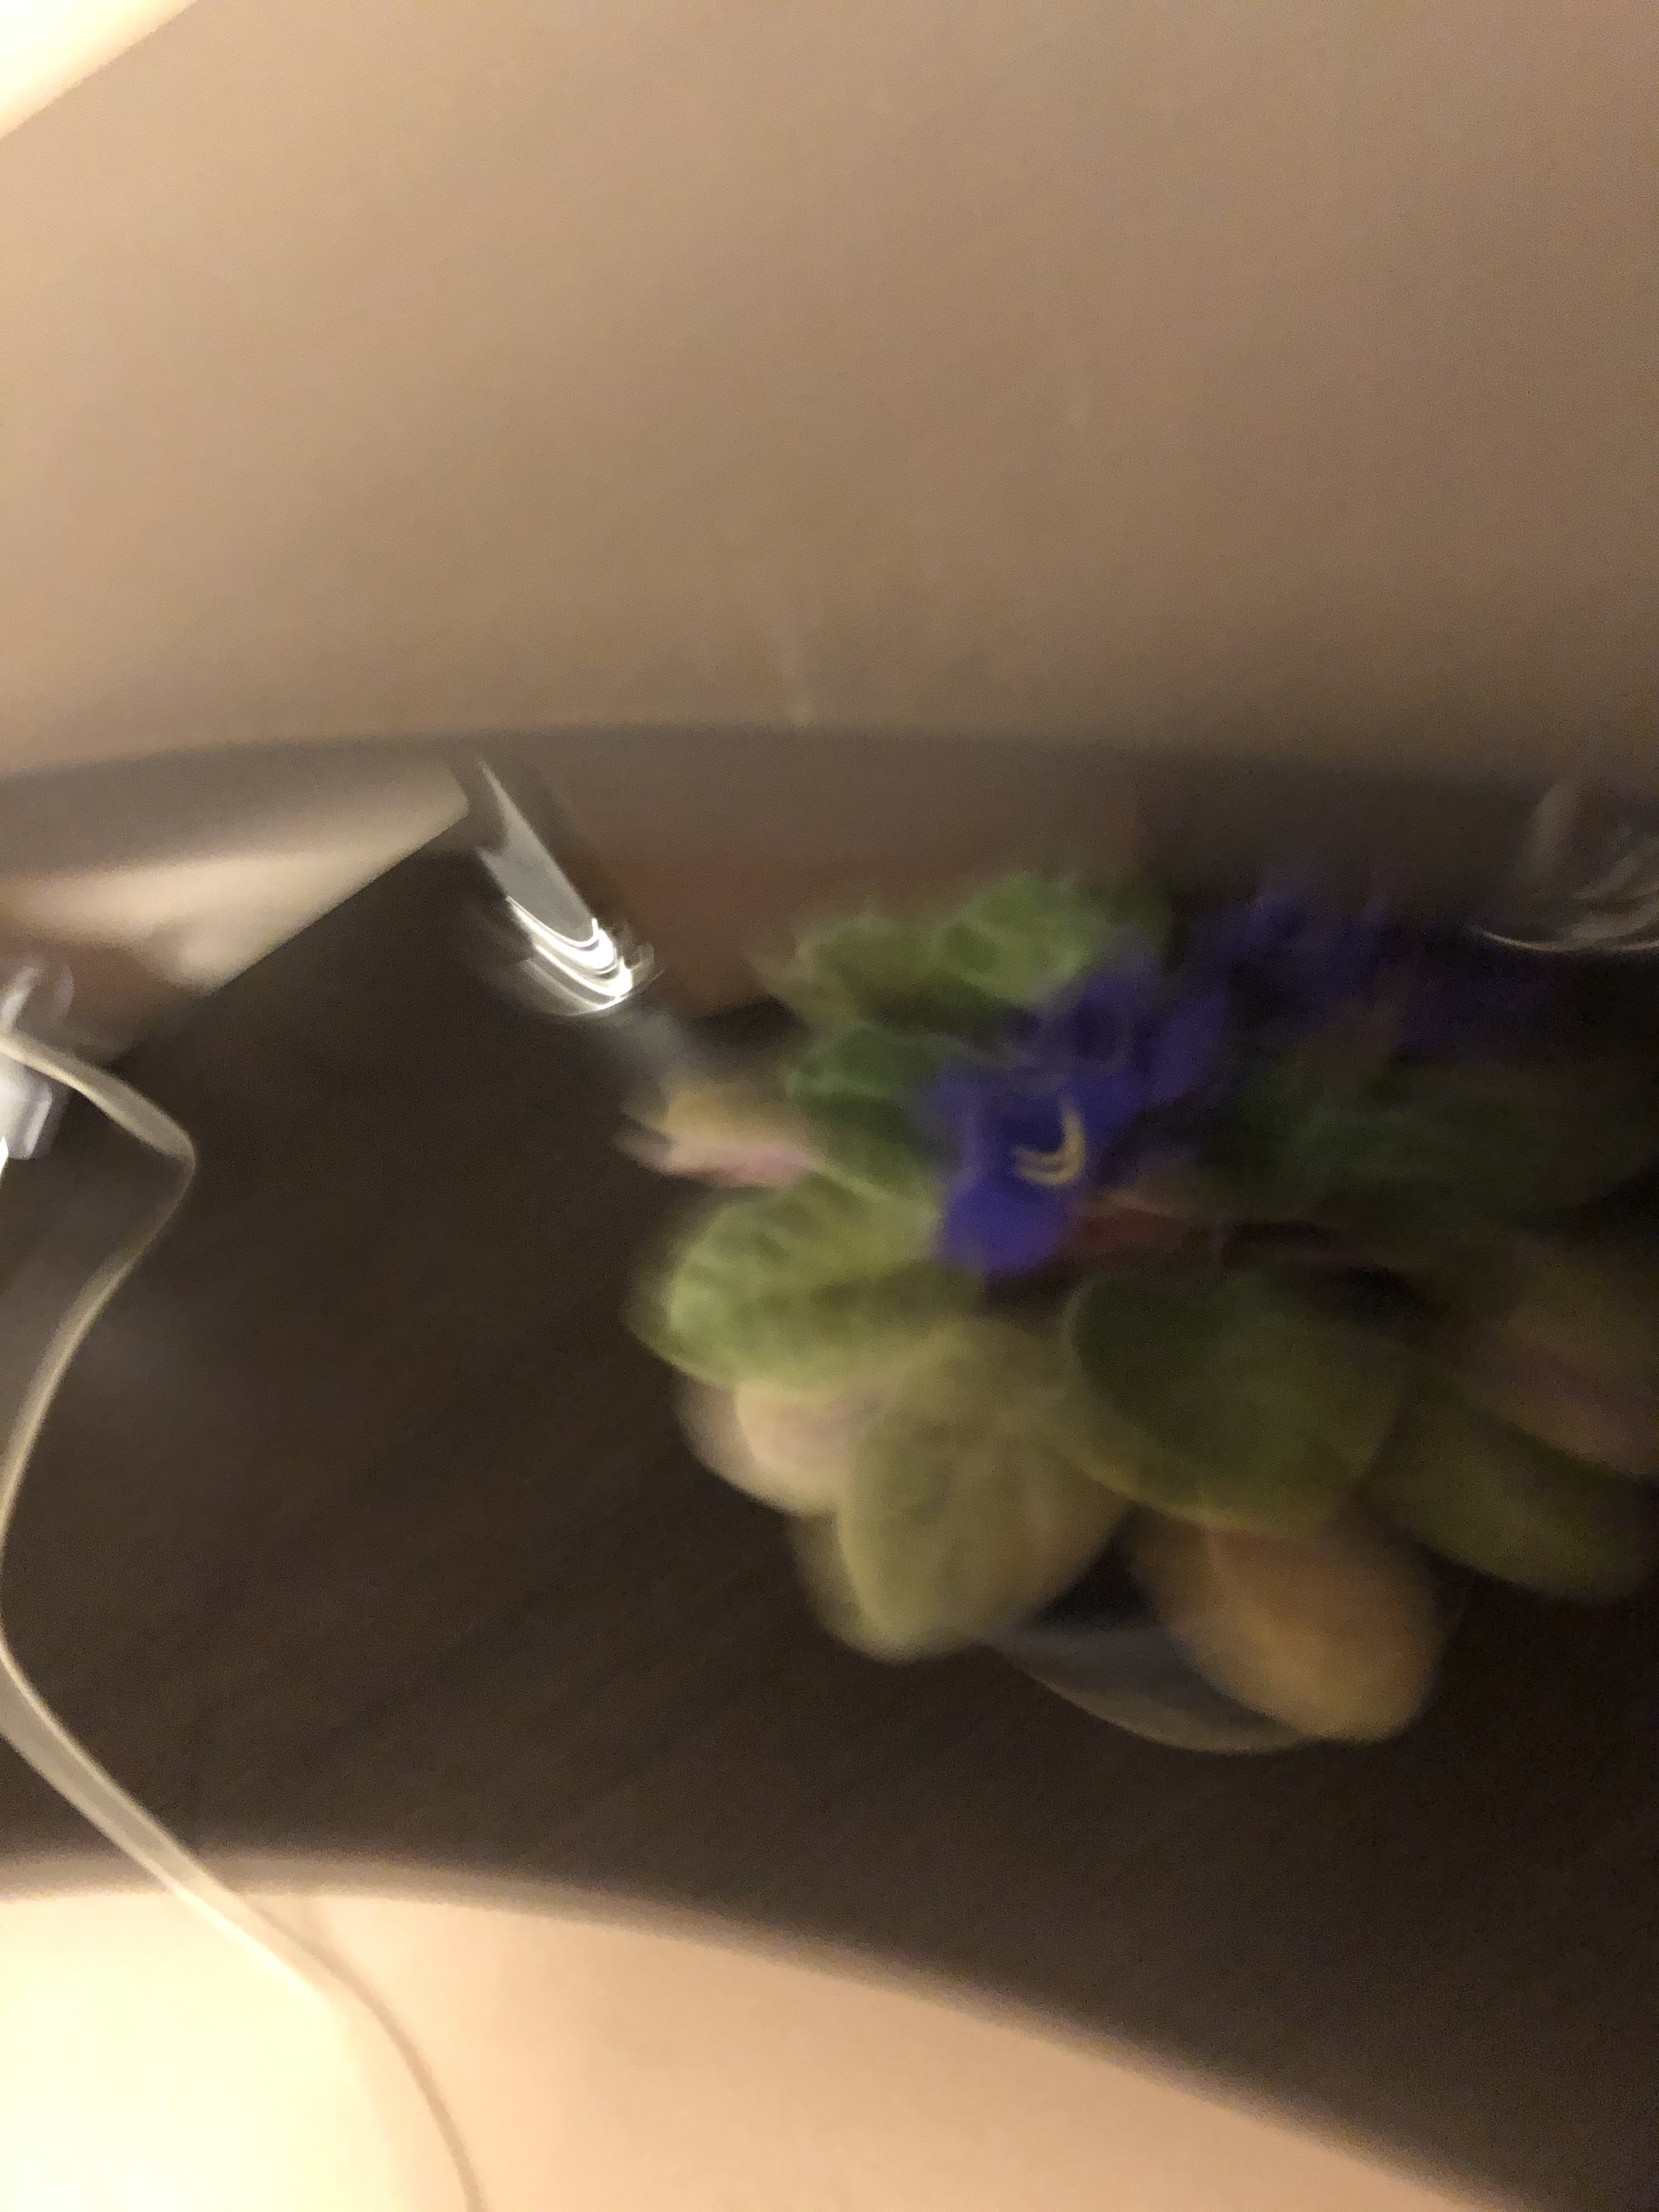ignore: (570, 812, 1631, 1738)
